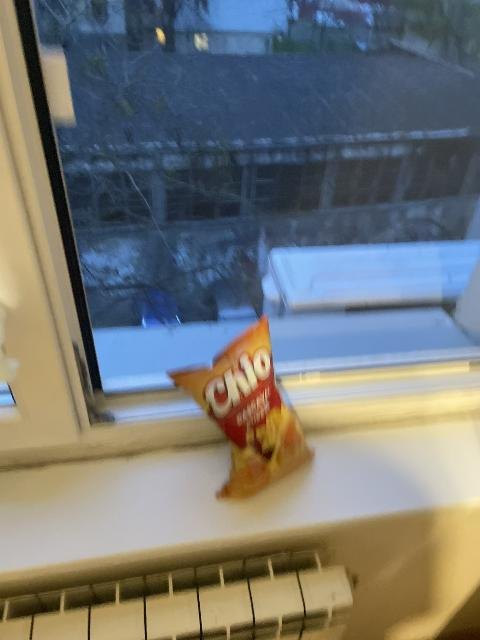Chio Cascaval 125g: (169, 313, 318, 498)
